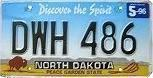placa de veiculo: (4, 1, 143, 73)
